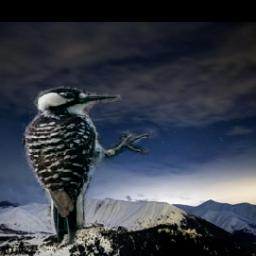Woodpecker: (19, 86, 154, 245)
